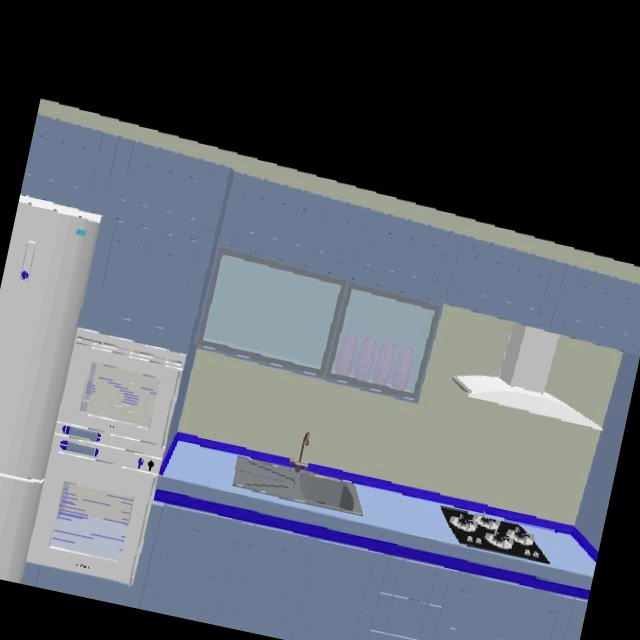cabinet: (123, 491, 592, 640)
countertop: (155, 441, 598, 589)
fridge: (0, 195, 101, 583)
microwave: (57, 328, 184, 447)
oven: (26, 446, 160, 587)
sink: (230, 457, 362, 516)
stove: (440, 507, 550, 564)
